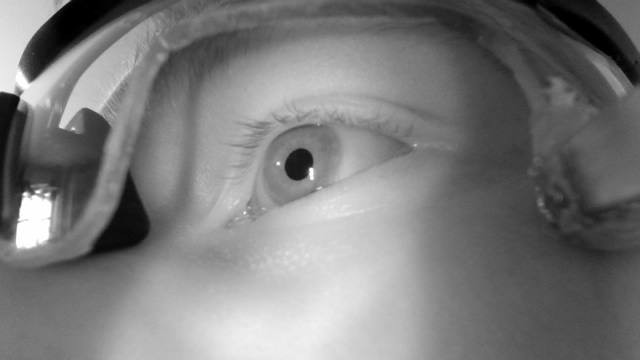pupil: (284, 148, 314, 182)
